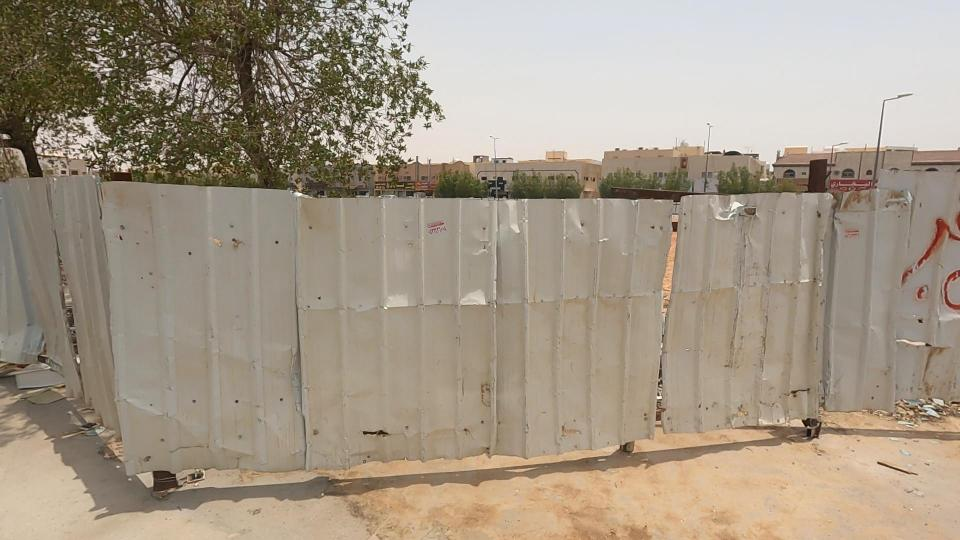GARBAGE: (844, 349, 960, 457)
